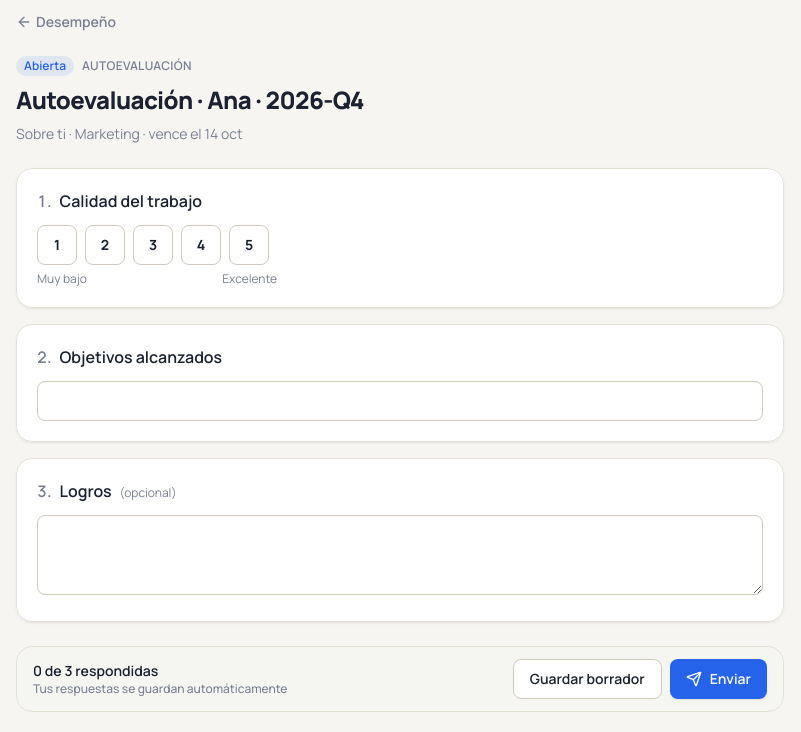
Test: SurveyResponsePage › saves pending answers before submitting and marks the missing ones
Click the radio button labelled "5": click(249, 245) [229,225,269,265]
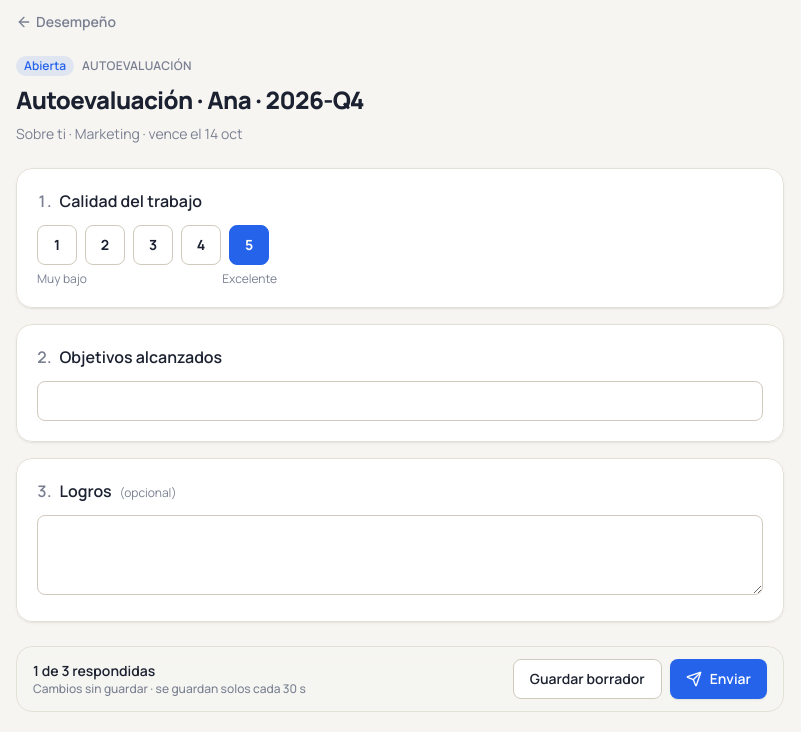
Click the button "Enviar": click(718, 679) [670,659,767,699]
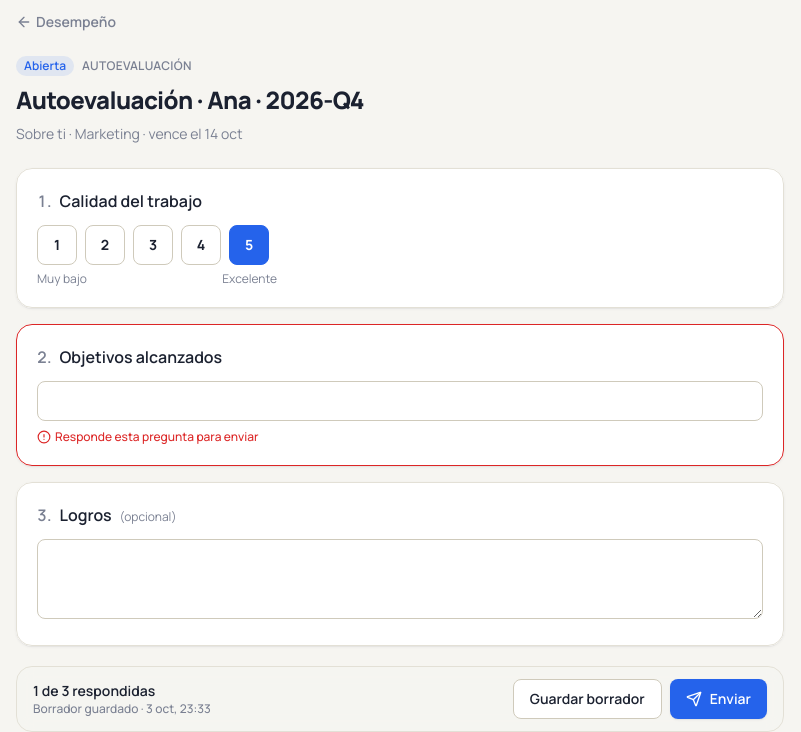
Check: the text "Responde esta pregunta para enviar" is shown, box [37,428,258,445]
